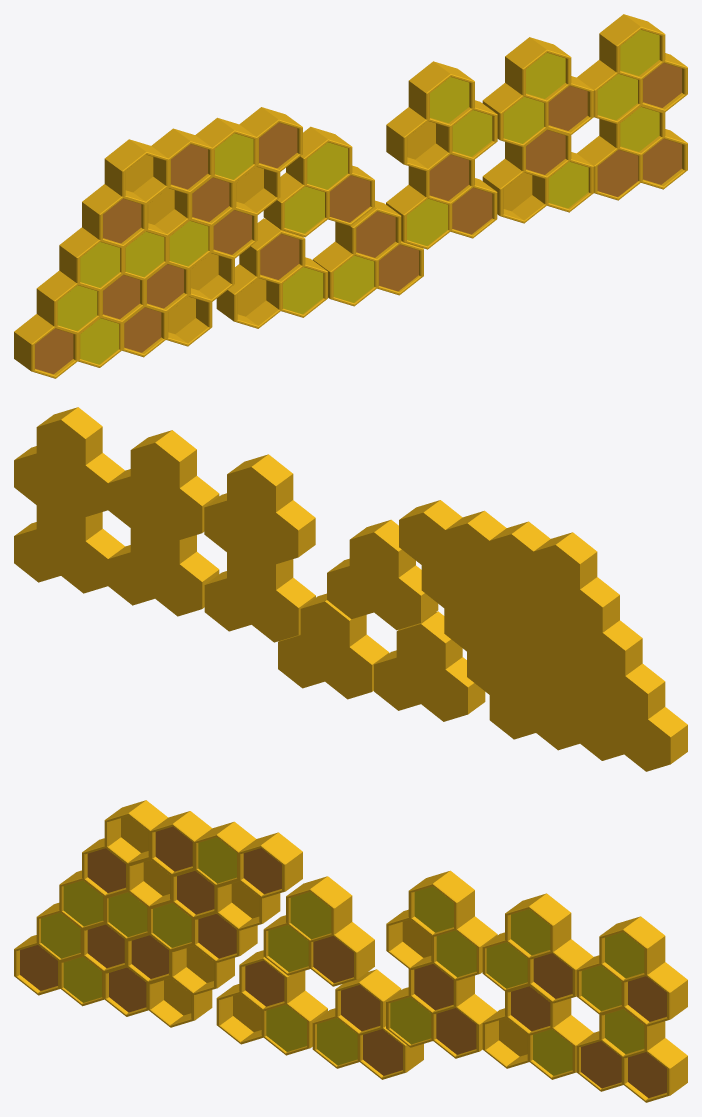
File: honeyLevel4.fbx
3 views of the same model, one above another, from view 1: azimuth 30°, elevation 25°; view 2: azimuth 150°, elevation 25°; view 3: azimuth 330°, elevation 25° (orthographic).
Parts seen in each view (by area): view 1: Cube.007, Cube.081, Cube.006, Cube.001, Cube.005, Cube.002, Cube.009; view 2: Cube.007, Cube.081, Cube.006, Cube.001, Cube.005, Cube.002, Cube.009; view 3: Cube.007, Cube.081, Cube.001, Cube.006, Cube.005, Cube.002, Cube.009.
Part boxes in pixels (<box>): Cube.007: <box>14,107,302,378</box>; Cube.081: <box>482,14,687,223</box>; Cube.006: <box>386,61,497,171</box>; Cube.001: <box>263,126,374,237</box>; Cube.005: <box>216,218,327,328</box>; Cube.002: <box>312,200,423,306</box>; Cube.009: <box>386,154,497,249</box>; Cube.007: <box>399,500,687,771</box>; Cube.081: <box>14,407,219,616</box>; Cube.006: <box>204,454,315,564</box>; Cube.001: <box>327,519,438,630</box>; Cube.005: <box>374,611,485,721</box>; Cube.002: <box>278,593,389,699</box>; Cube.009: <box>204,544,315,642</box>; Cube.007: <box>14,800,302,1027</box>; Cube.081: <box>482,893,687,1102</box>; Cube.001: <box>263,876,374,986</box>; Cube.006: <box>386,870,497,980</box>; Cube.005: <box>216,950,327,1055</box>; Cube.002: <box>312,969,423,1079</box>; Cube.009: <box>386,963,496,1058</box>.
Bounding box in the file's own units: 3587 × 1095 × 167.
